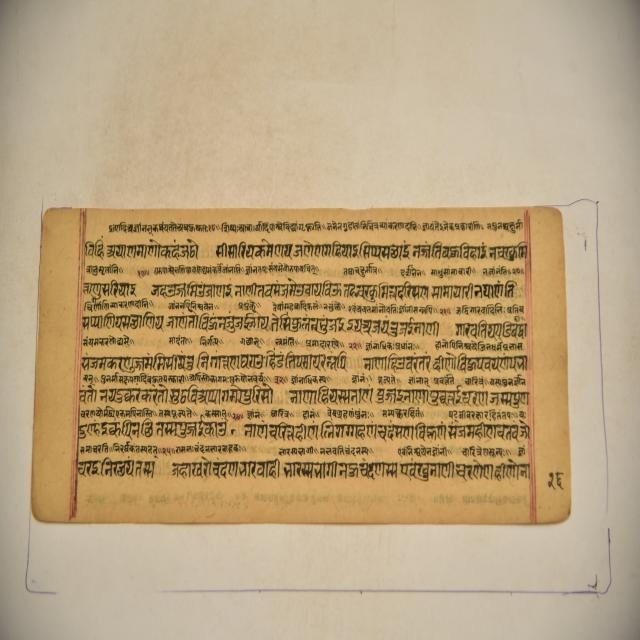text_paragraph: (29, 200, 567, 527)
